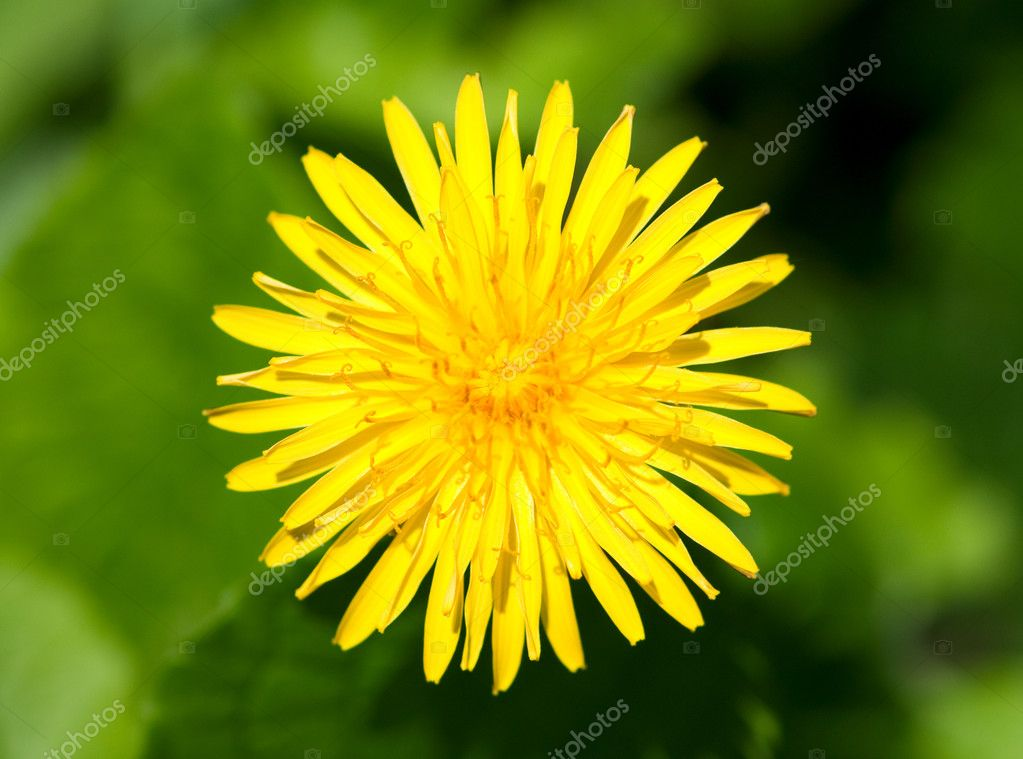dandelion: (213, 118, 811, 670)
